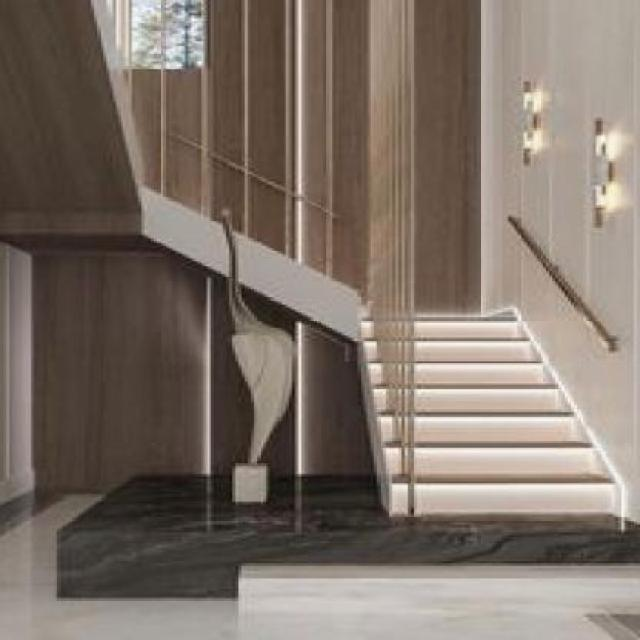stair: (263, 262, 631, 536)
